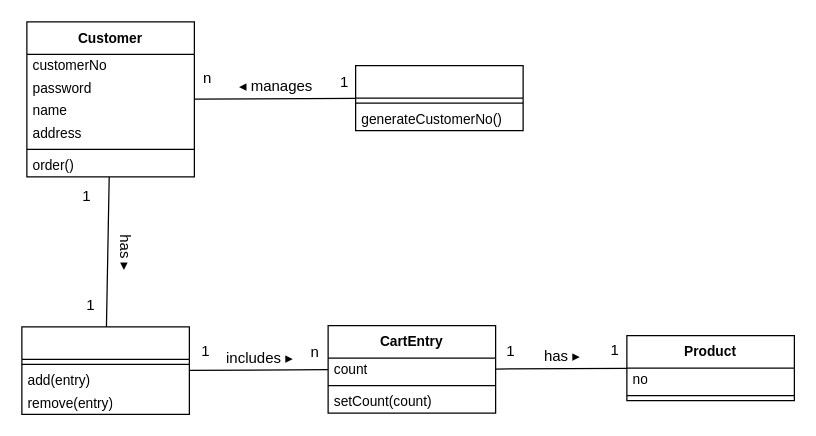
Some shapes in this 816 by 436 pixel diagram are drawn without their labels. The box of each missing label's shape, as (x1, y1, x2, y2) in pixels:
CustomerManagement: (354, 64, 523, 131)
ShoppingCart: (21, 326, 189, 414)
